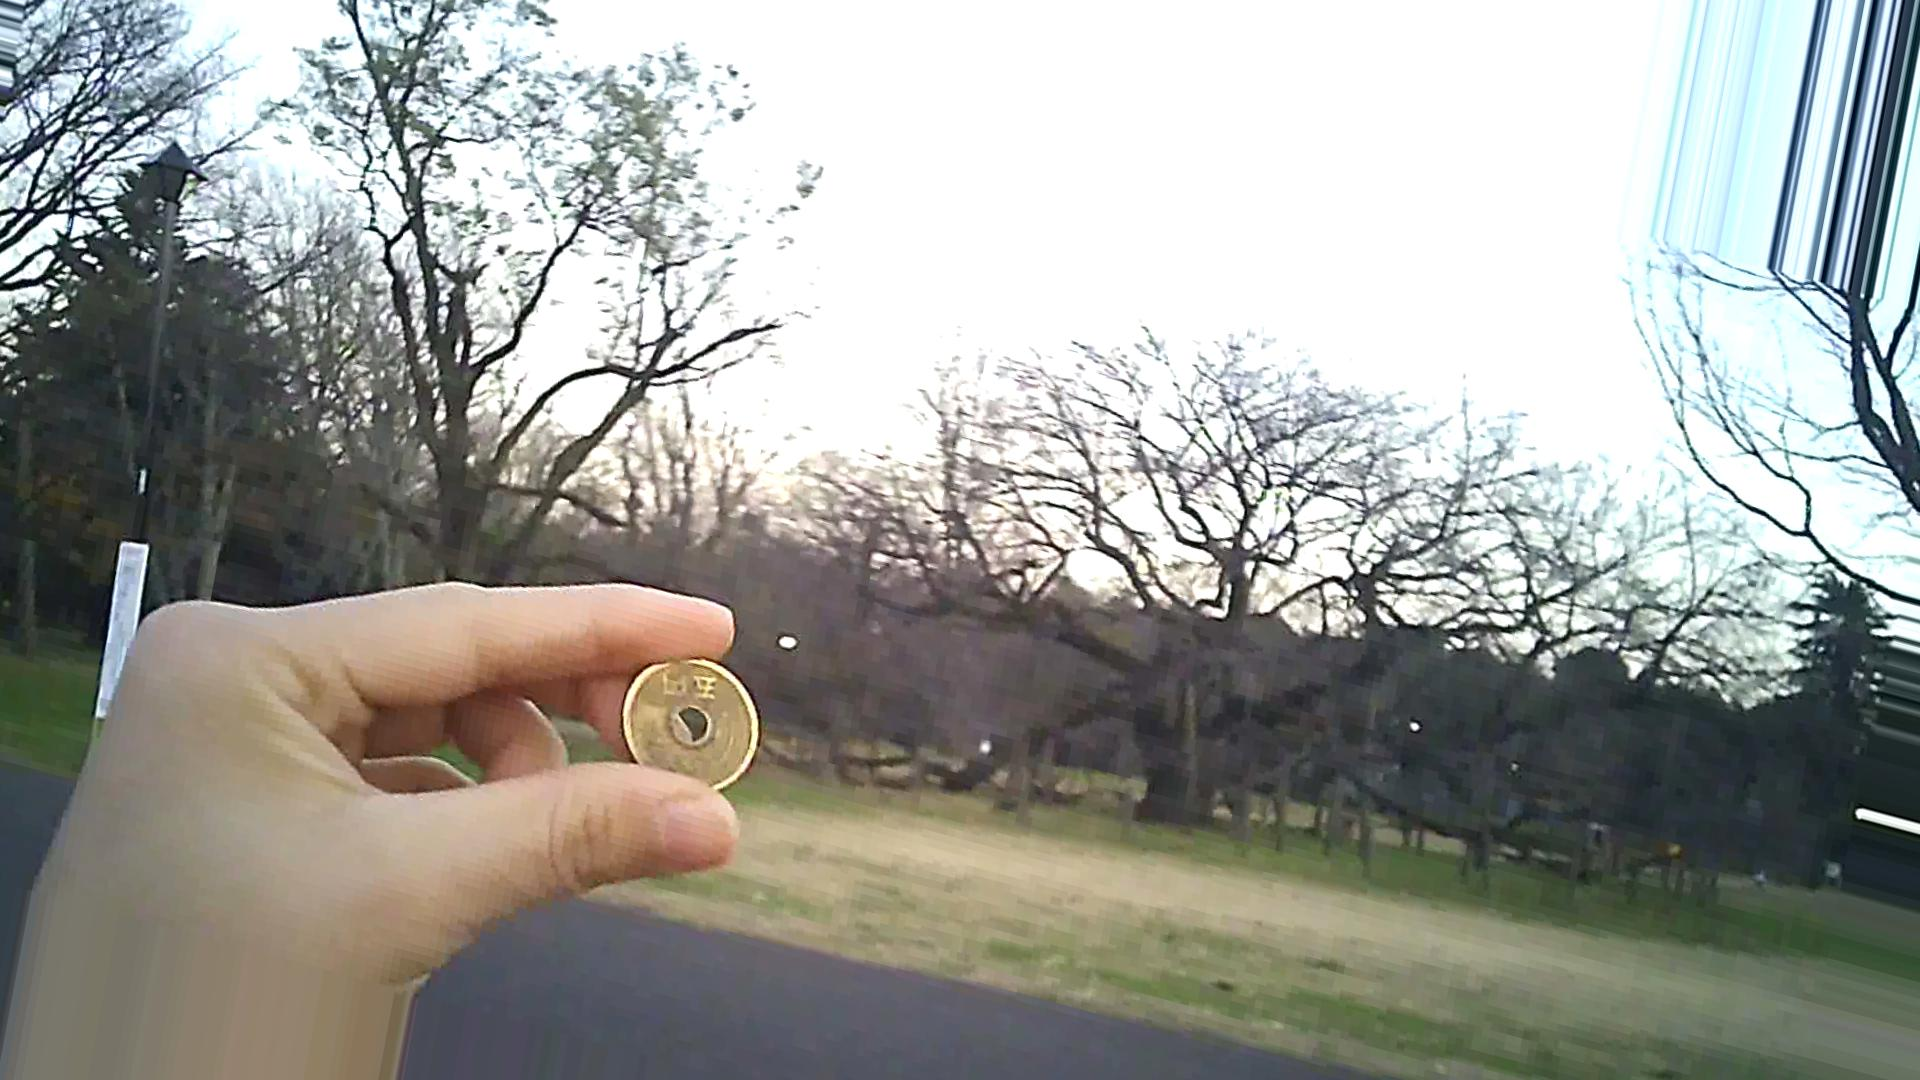5 Yen: (611, 640, 767, 803)
